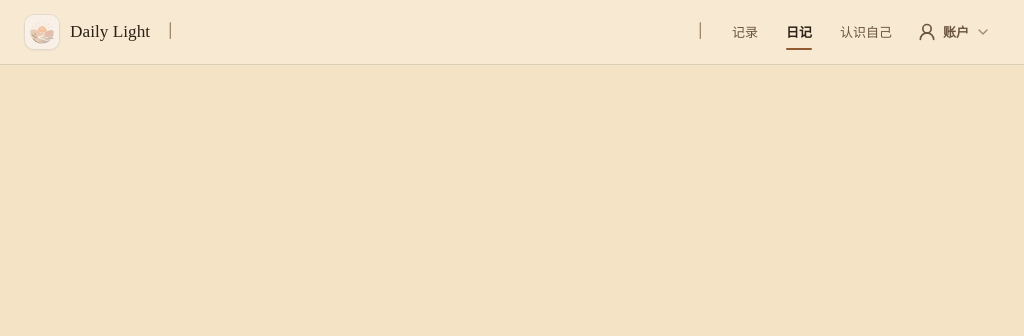
Scenario: site header journal toolbar › shows an in-place message when logout fails
Click the button with aria-label "打开账户菜单" at [954, 32], box [908, 10, 1000, 54]
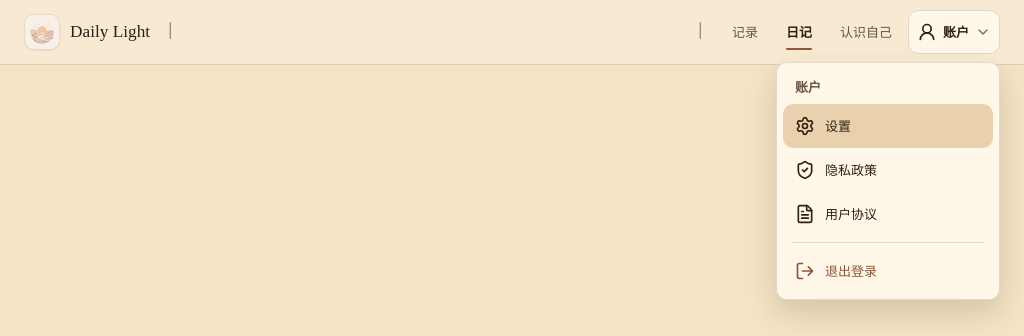
Click the menu item "退出登录" at [836, 271], box [795, 261, 877, 281]
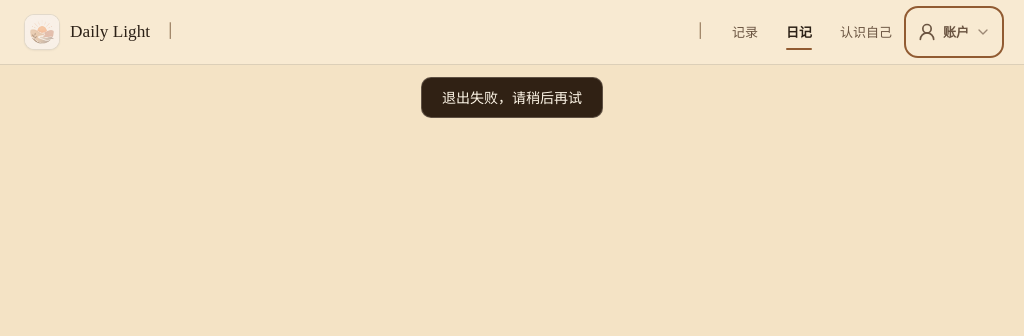
Expected: the text with test id "account-menu-error" reads "退出失败，请稍后再试", [442, 89, 582, 106]
